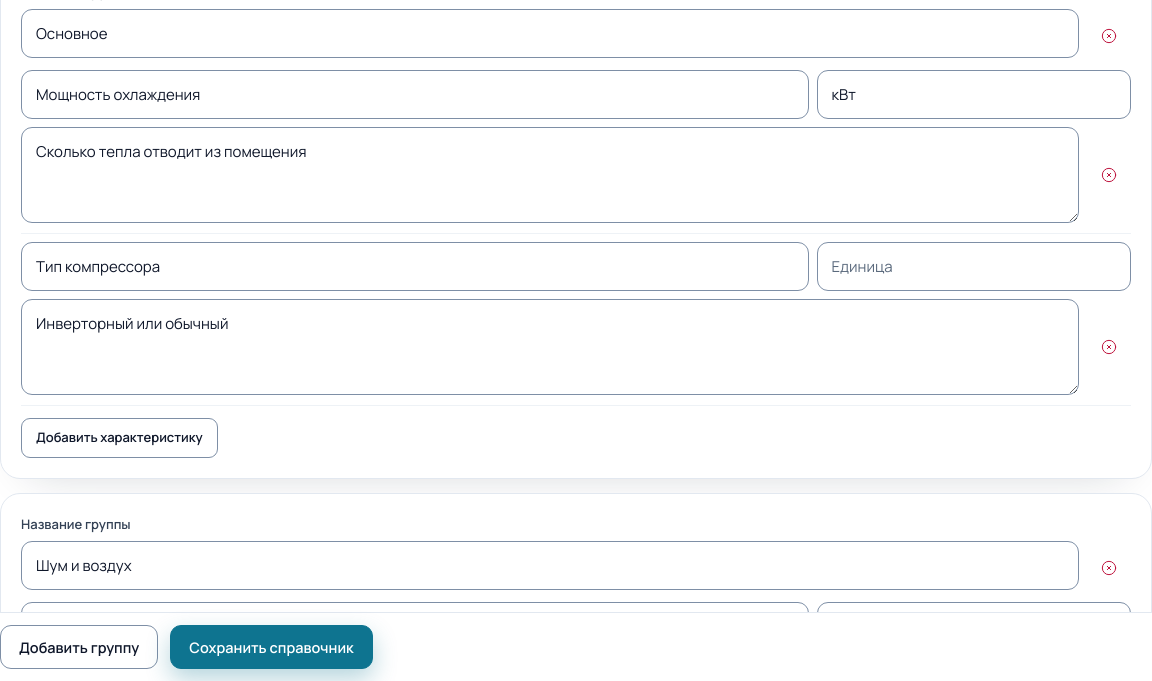
Test case: Справочник характеристик › отказ сервера показывается человеку
This screenshot has width=1152, height=681.
Click the button "Сохранить справочник" at [271, 647], box [170,625,373,669]
(page scrolled)
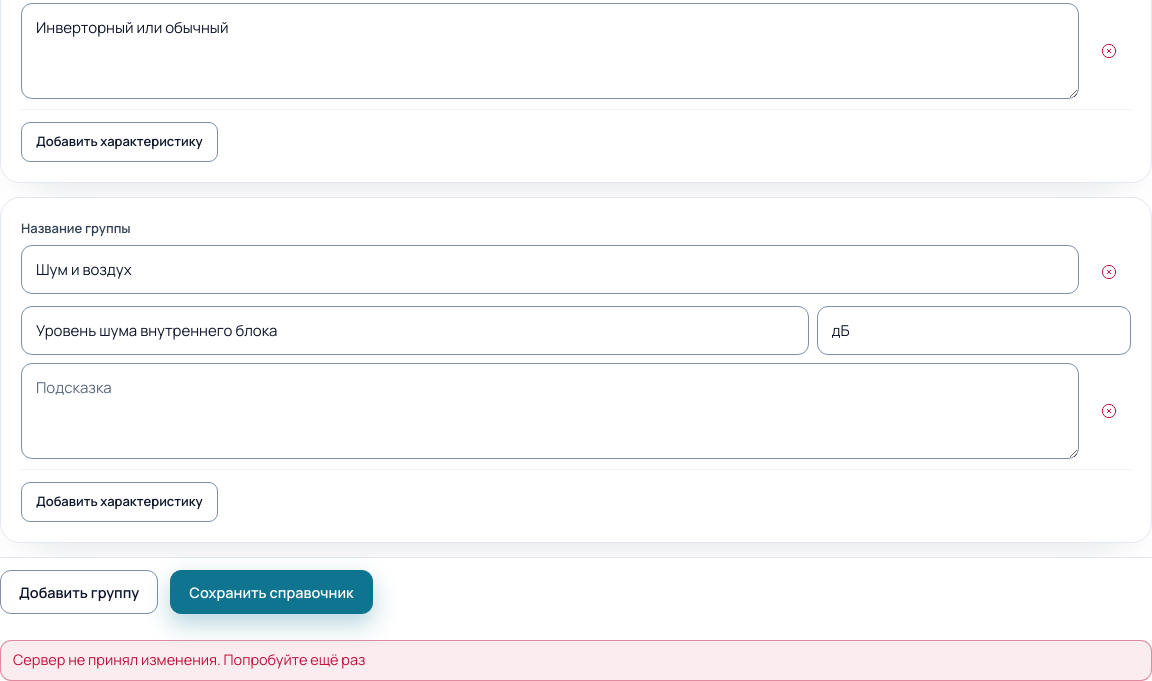
Check: the message shows "Сервер не принял изменения", box [13,650,365,669]
